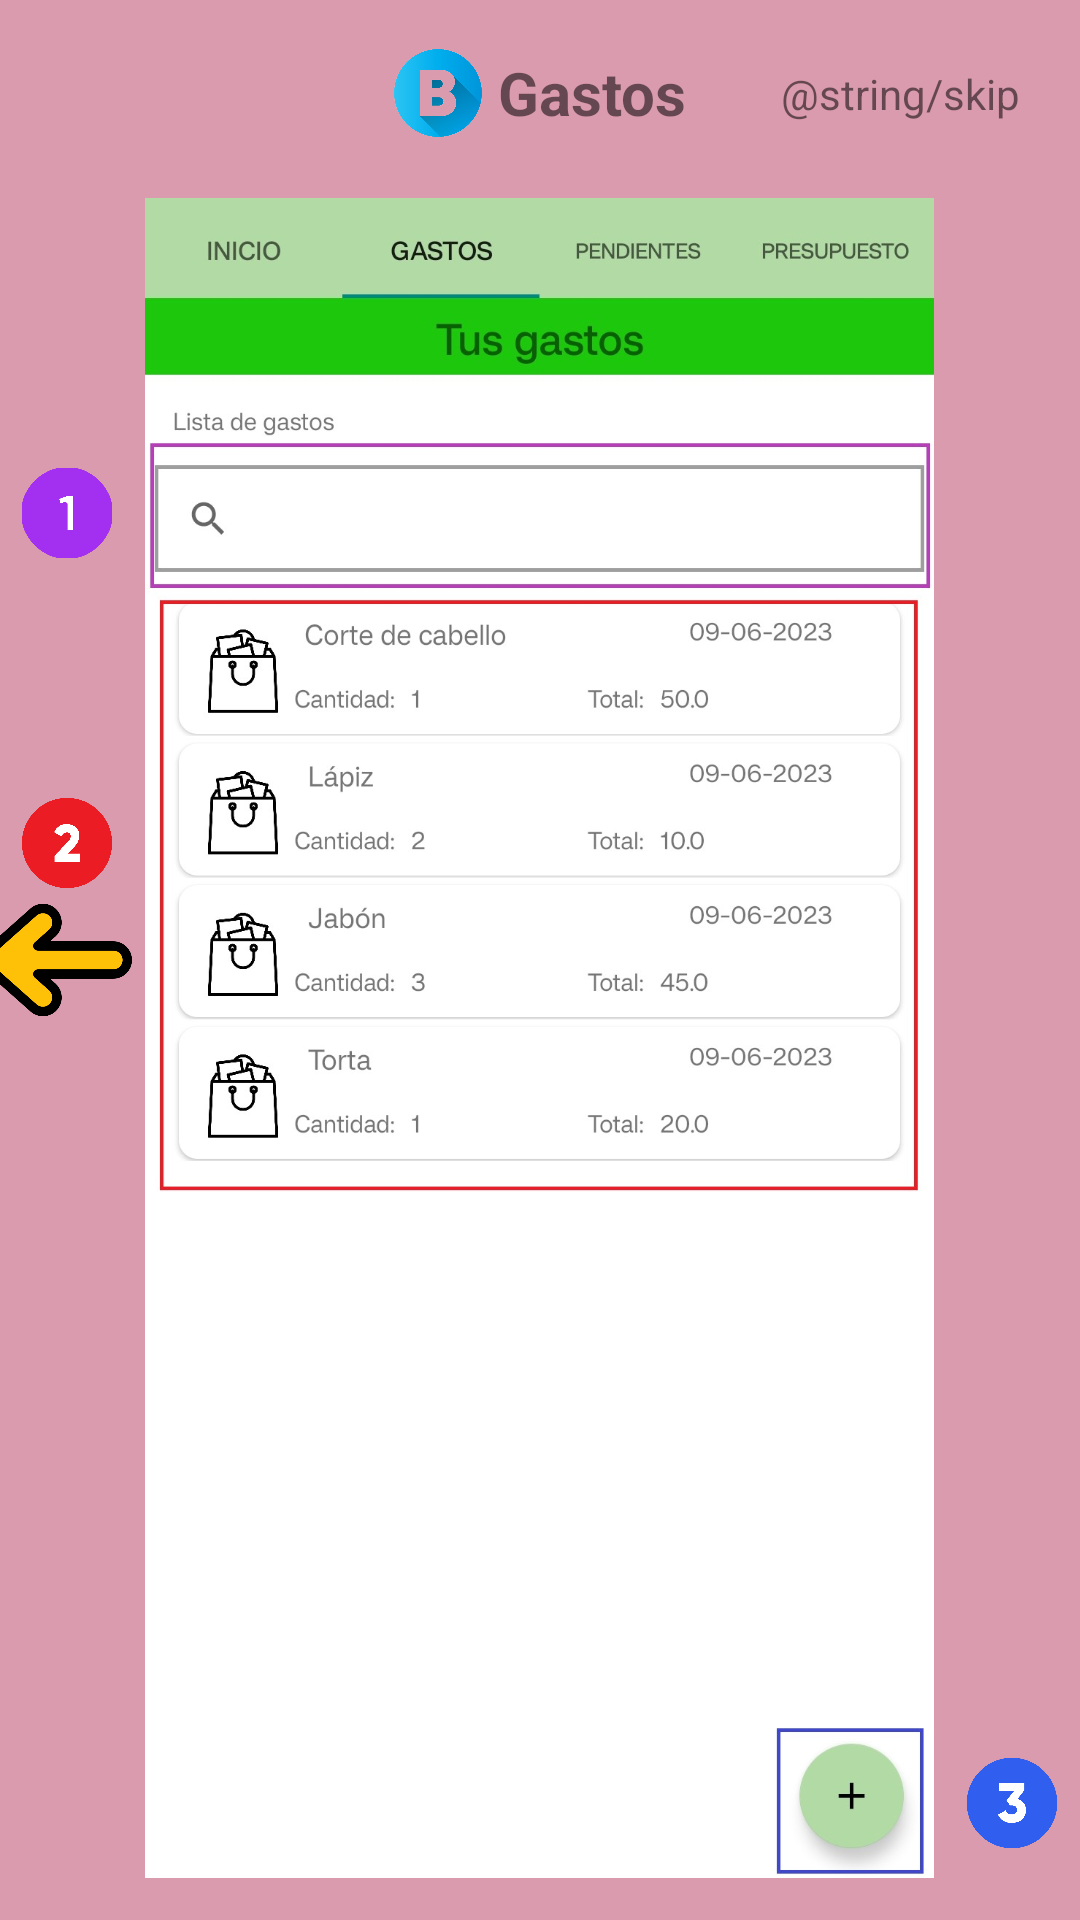

Icons on this 1080 × 1920 Android screen, each with the point to tap as (x=x, y=y):
letra: (x=438, y=93)
num azul: (x=1012, y=1803)
num morado: (x=67, y=513)
num rojo: (x=67, y=843)
